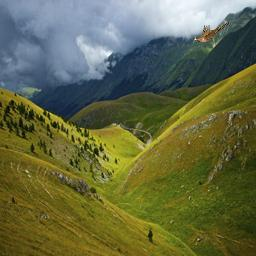Cuckoo: (194, 20, 231, 42)
